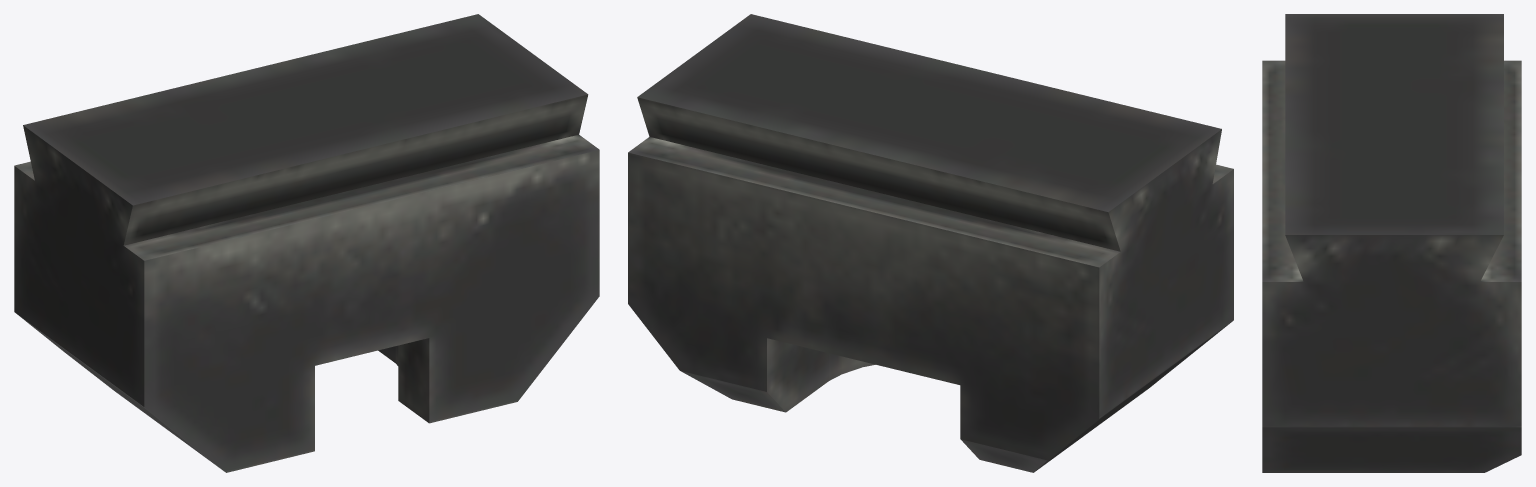
The picture shows the model from 3 angles, left to right: view 1: azimuth 30°, elevation 25°; view 2: azimuth 150°, elevation 25°; view 3: azimuth 270°, elevation 25°; orthographic projection. The views are drawn at different scales.
Visible parts, largest first — view 1: TW_5a71e0fb8dc32e00094b97f2_PZ_Import; view 2: TW_5a71e0fb8dc32e00094b97f2_PZ_Import; view 3: TW_5a71e0fb8dc32e00094b97f2_PZ_Import.
Boxes of the visible parts, x1,y1,x2,y2 form: TW_5a71e0fb8dc32e00094b97f2_PZ_Import: (14,14,599,472); TW_5a71e0fb8dc32e00094b97f2_PZ_Import: (628,14,1233,472); TW_5a71e0fb8dc32e00094b97f2_PZ_Import: (1262,14,1521,472).
Size of the model in its own units: 0.00954 by 0.00472 by 0.00559.
1 material, 1 textured.
